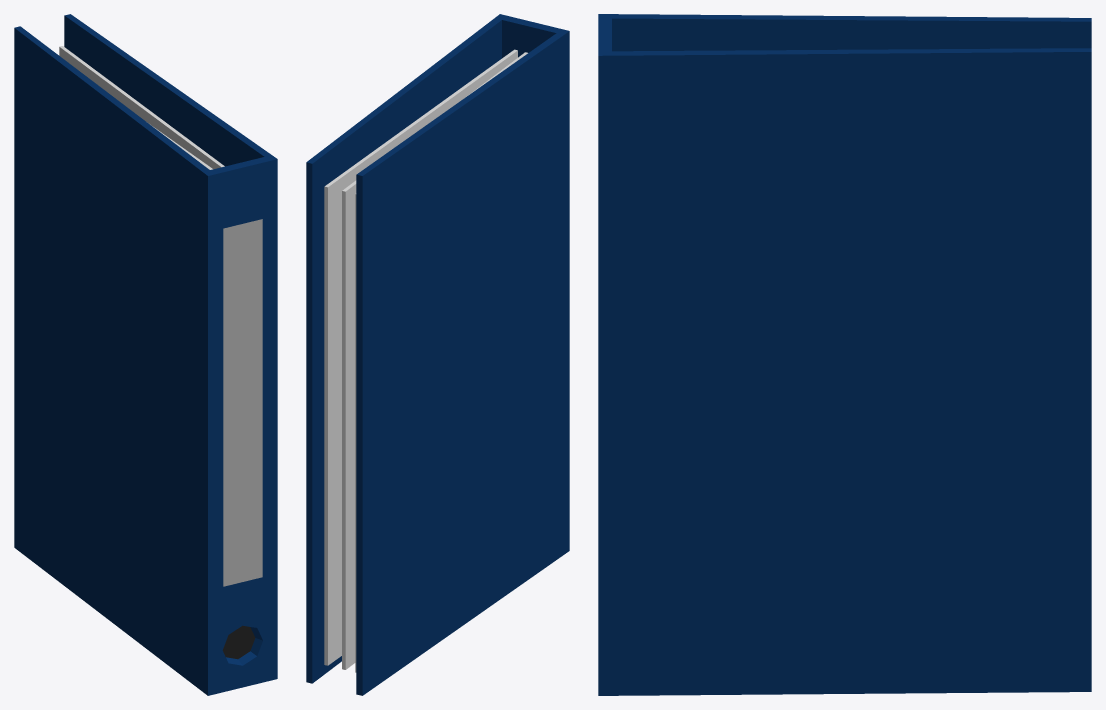
Rendered from FolderV1Blue.fbx.
The picture shows the model from 3 angles, left to right: view 1: azimuth 30°, elevation 25°; view 2: azimuth 150°, elevation 25°; view 3: azimuth 270°, elevation 25°; orthographic projection. The views are drawn at different scales.
Visible parts, largest first — view 1: FolderV1Blue; view 2: FolderV1Blue; view 3: FolderV1Blue.
Part boxes in pixels (x1,y1,x2,y2): FolderV1Blue: (14,14,277,695); FolderV1Blue: (306,14,569,695); FolderV1Blue: (598,14,1091,695).
Bounding box in the file's own units: 4.8 × 34.23 × 23.92.
